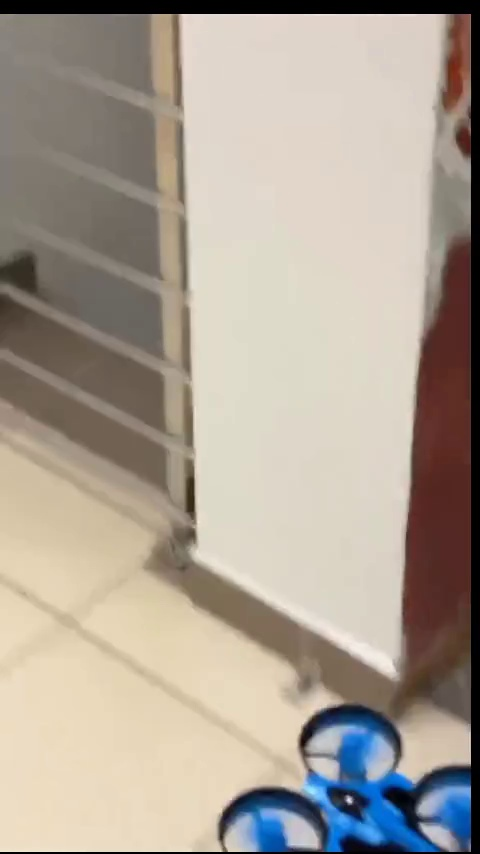drone: (225, 704, 469, 848)
